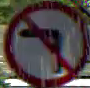Don't turn left: (6, 0, 85, 87)
